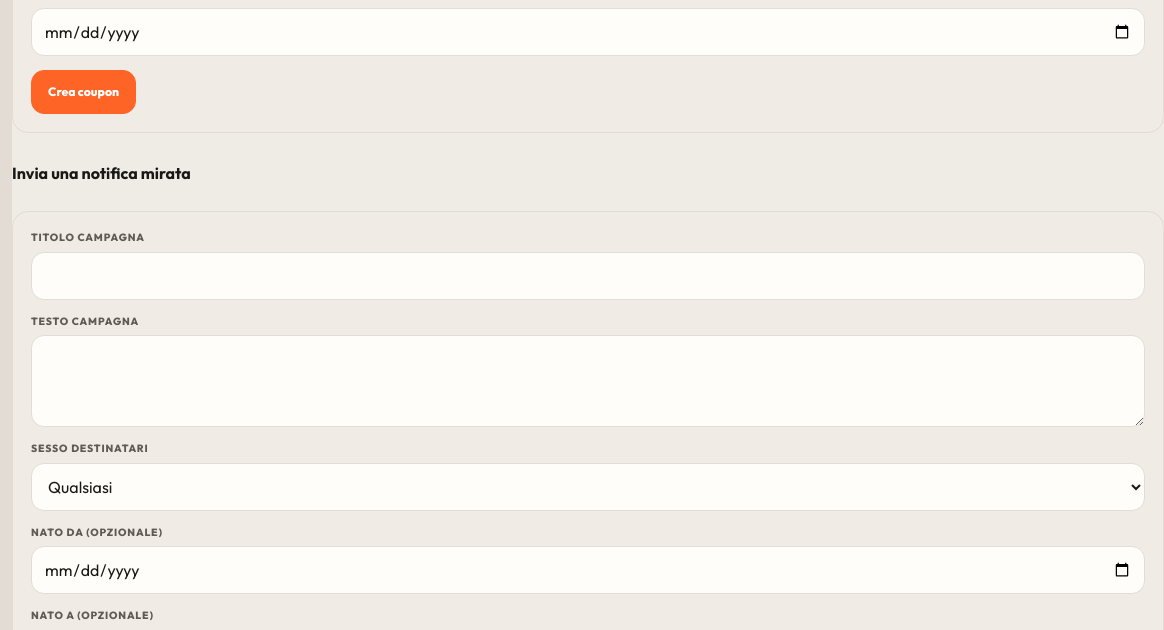
Test: NotificationsPage — coupon › invia una campagna con i filtri scelti e mostra i destinatari
This screenshot has width=1164, height=630.
(page scrolled)
Type "Promo estate" into the field labelled "Titolo campagna" at (588, 276), box [31,252,1145,300]
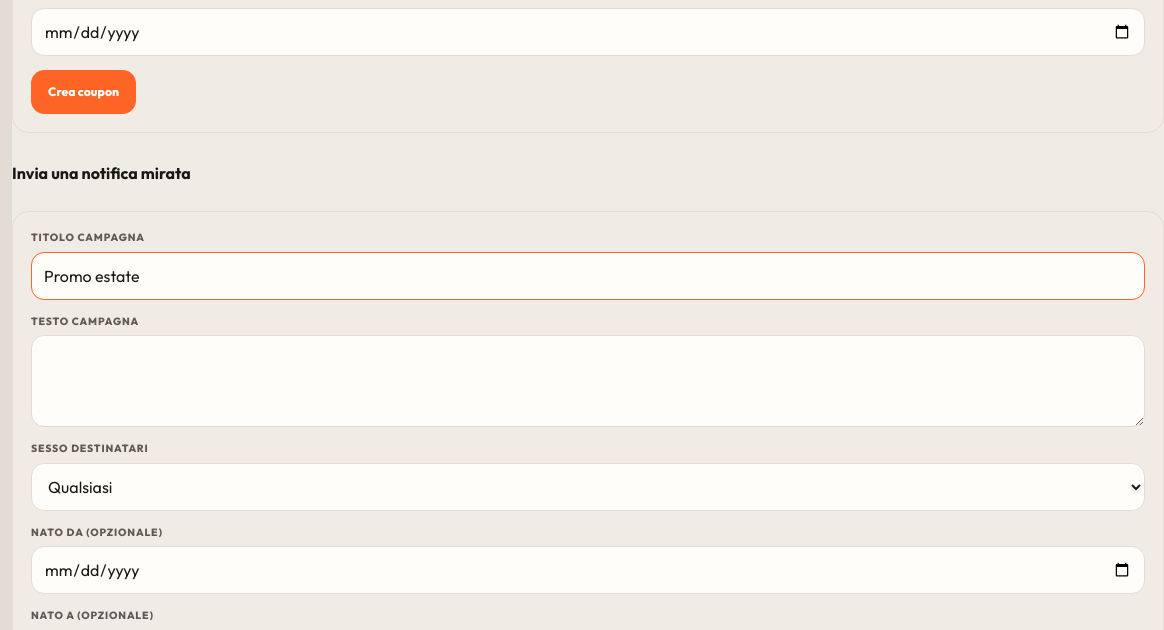
Type "Sconti su tutto" into the text box labelled "Testo campagna" at (588, 381), box [31,335,1145,427]
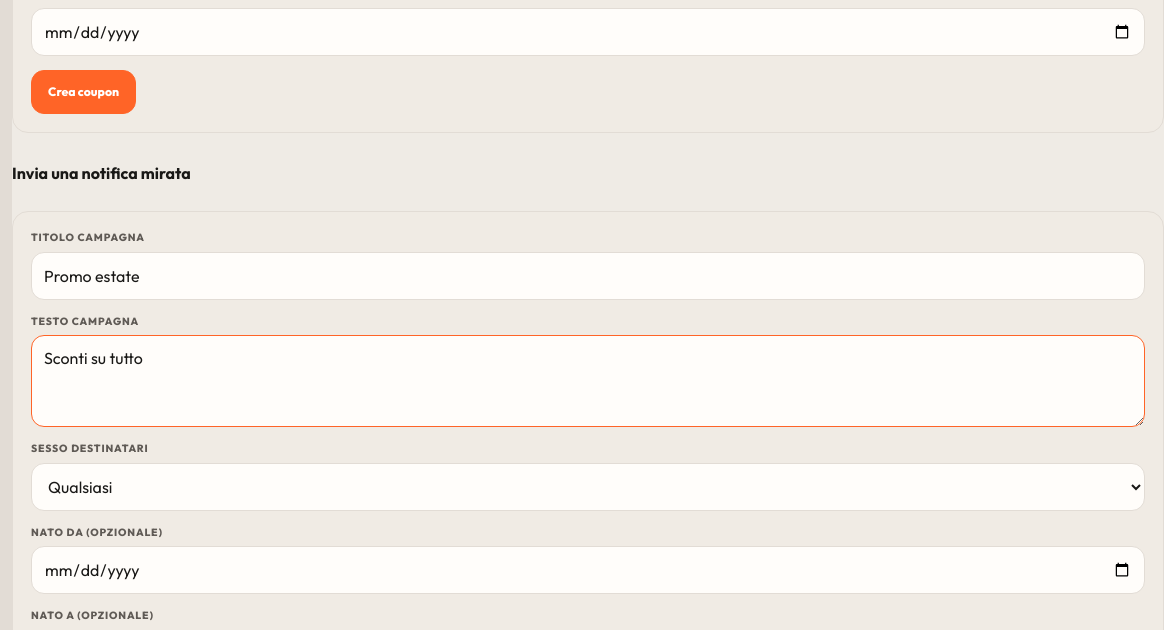
Select "Maschile" in the dropdown labelled "Sesso destinatari" at (588, 487), box [31,463,1145,511]
(page scrolled)
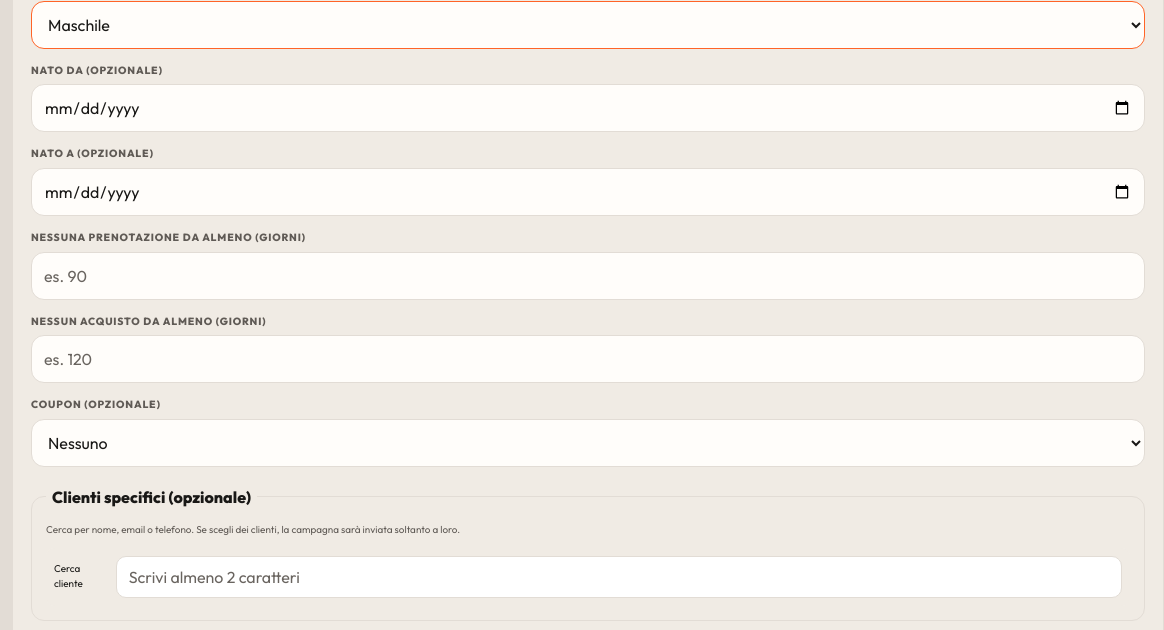
Type "90" into the number field named "Giorni senza prenotazioni" at (588, 276), box [31,252,1145,300]
(page scrolled)
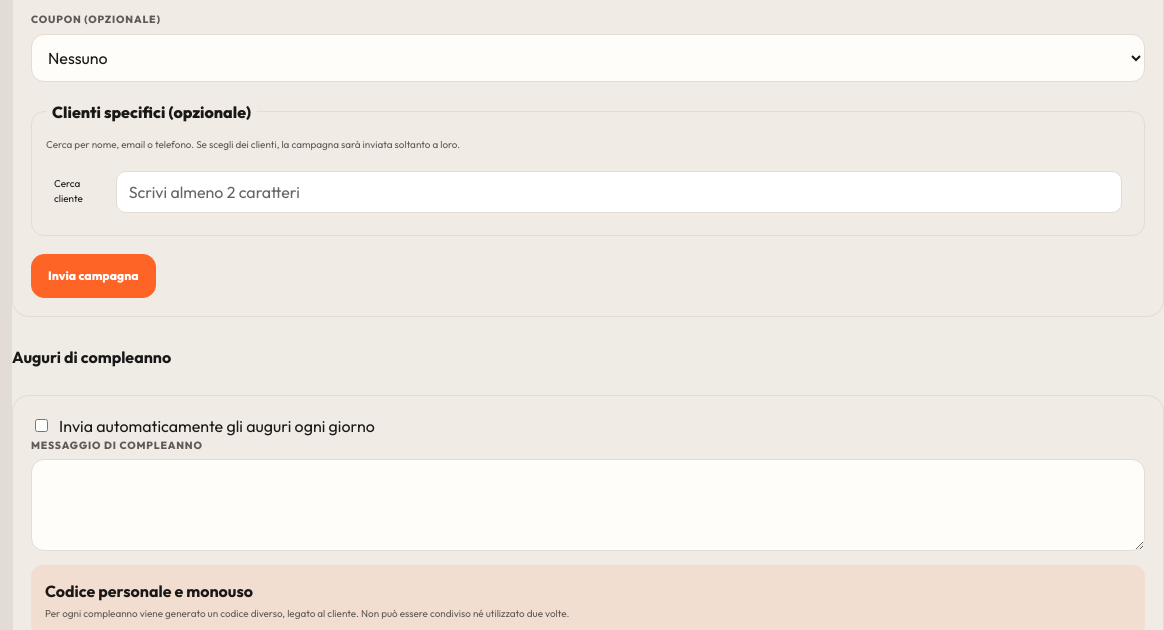
Click the button "Invia campagna" at (93, 276), box [31,254,156,298]
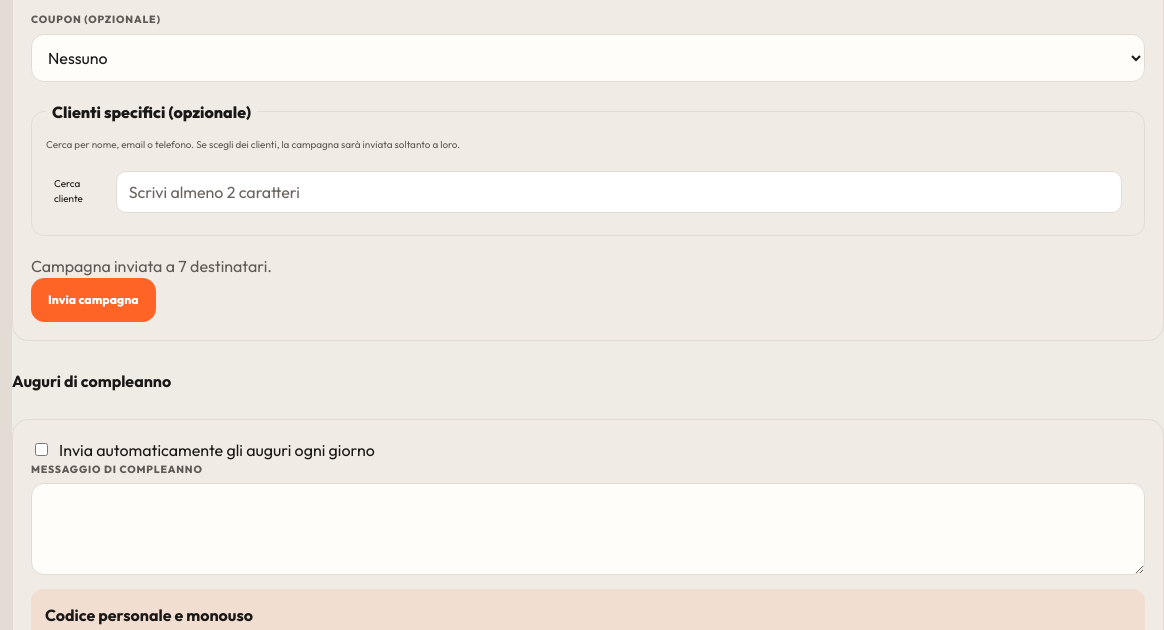
Result: the text "Campagna inviata a 7 destinatari." is shown at [31,256,272,276]
